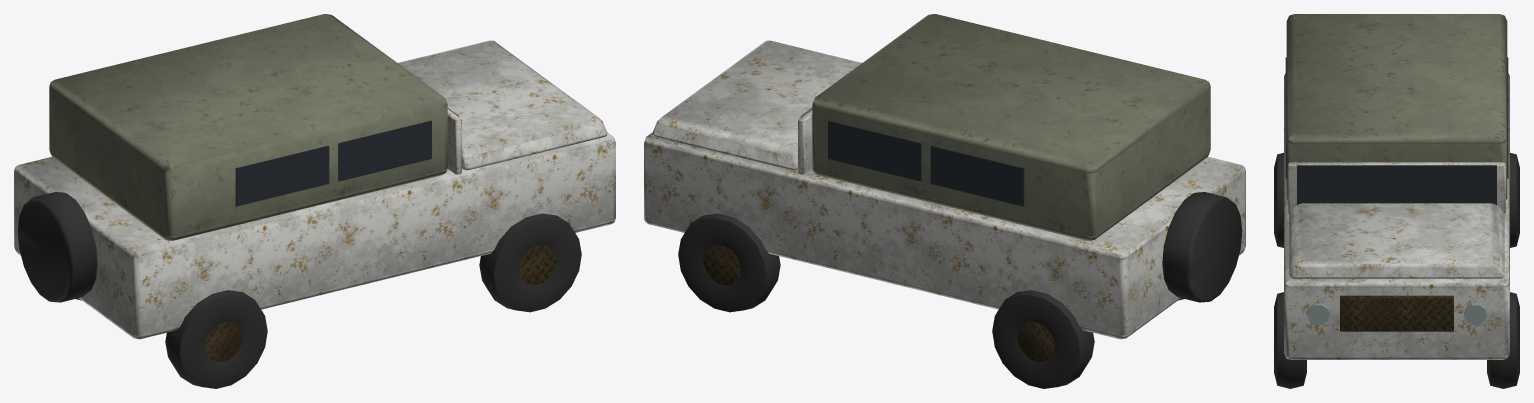
The model's file is veh_jeep.gltf.
3 views of the same model, side by side, from view 1: azimuth 30°, elevation 25°; view 2: azimuth 150°, elevation 25°; view 3: azimuth 270°, elevation 25° (orthographic). The views are drawn at different scales.
Visible parts, largest first — view 1: box.004, box, box.001, cyl.004, torus.002, torus, box.005, box.006, cyl, cyl.002, box.003; view 2: box.004, box, box.001, cyl.004, torus.003, torus.001, box.007, box.008, cyl.001, cyl.003, box.003; view 3: box.004, box.001, box, box.002, box.009, box.003, torus, torus.001, torus.002, torus.003, cyl.005, cyl.006.
Part boxes in pixels (bbox=[...]): box.004: bbox=[49, 14, 447, 240]; box: bbox=[14, 132, 615, 339]; box.001: bbox=[398, 40, 607, 170]; cyl.004: bbox=[17, 192, 97, 302]; torus.002: bbox=[165, 290, 267, 388]; torus: bbox=[479, 213, 581, 312]; box.005: bbox=[235, 145, 329, 206]; box.006: bbox=[338, 120, 431, 181]; cyl: bbox=[519, 245, 556, 285]; cyl.002: bbox=[205, 321, 242, 361]; box.003: bbox=[447, 109, 461, 174]; box.004: bbox=[812, 14, 1210, 240]; box: bbox=[644, 132, 1245, 339]; box.001: bbox=[652, 40, 861, 170]; cyl.004: bbox=[1162, 192, 1242, 302]; torus.003: bbox=[992, 290, 1094, 388]; torus.001: bbox=[678, 213, 780, 312]; box.007: bbox=[930, 145, 1024, 206]; box.008: bbox=[828, 120, 921, 181]; cyl.001: bbox=[703, 245, 740, 285]; cyl.003: bbox=[1017, 321, 1054, 361]; box.003: bbox=[798, 109, 812, 174]; box.004: bbox=[1286, 14, 1507, 200]; box.001: bbox=[1289, 203, 1504, 278]; box: bbox=[1284, 73, 1509, 359]; box.002: bbox=[1297, 165, 1496, 204]; box.009: bbox=[1340, 295, 1453, 331]; box.003: bbox=[1288, 162, 1505, 213]; torus: bbox=[1274, 292, 1306, 388]; torus.001: bbox=[1487, 292, 1519, 388]; torus.002: bbox=[1274, 153, 1283, 247]; torus.003: bbox=[1510, 153, 1519, 247]; cyl.005: bbox=[1307, 303, 1329, 324]; cyl.006: bbox=[1464, 303, 1486, 324].
Bounding box in the file's own units: 4.29 × 1.83 × 1.94.
Materials: 6 (3 with a texture image).
